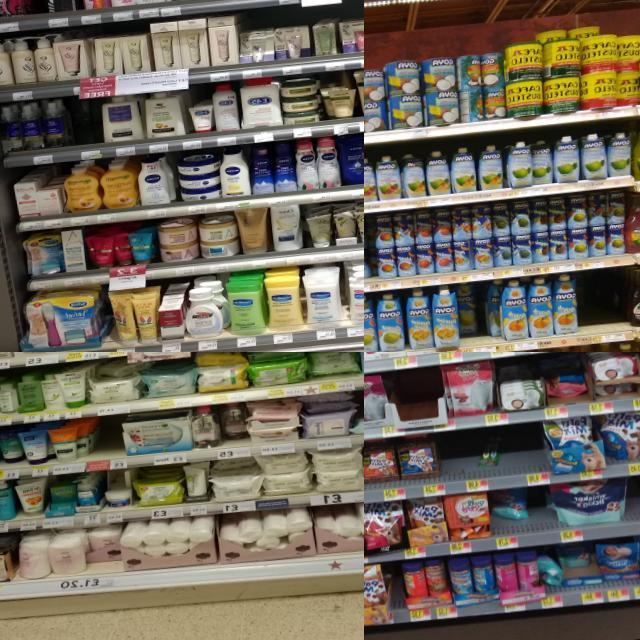empty: (436, 429, 481, 495), (501, 422, 545, 488), (583, 268, 616, 344), (72, 97, 104, 160), (98, 416, 126, 470), (528, 488, 550, 546), (629, 474, 640, 535), (26, 0, 48, 29), (183, 0, 207, 13)
